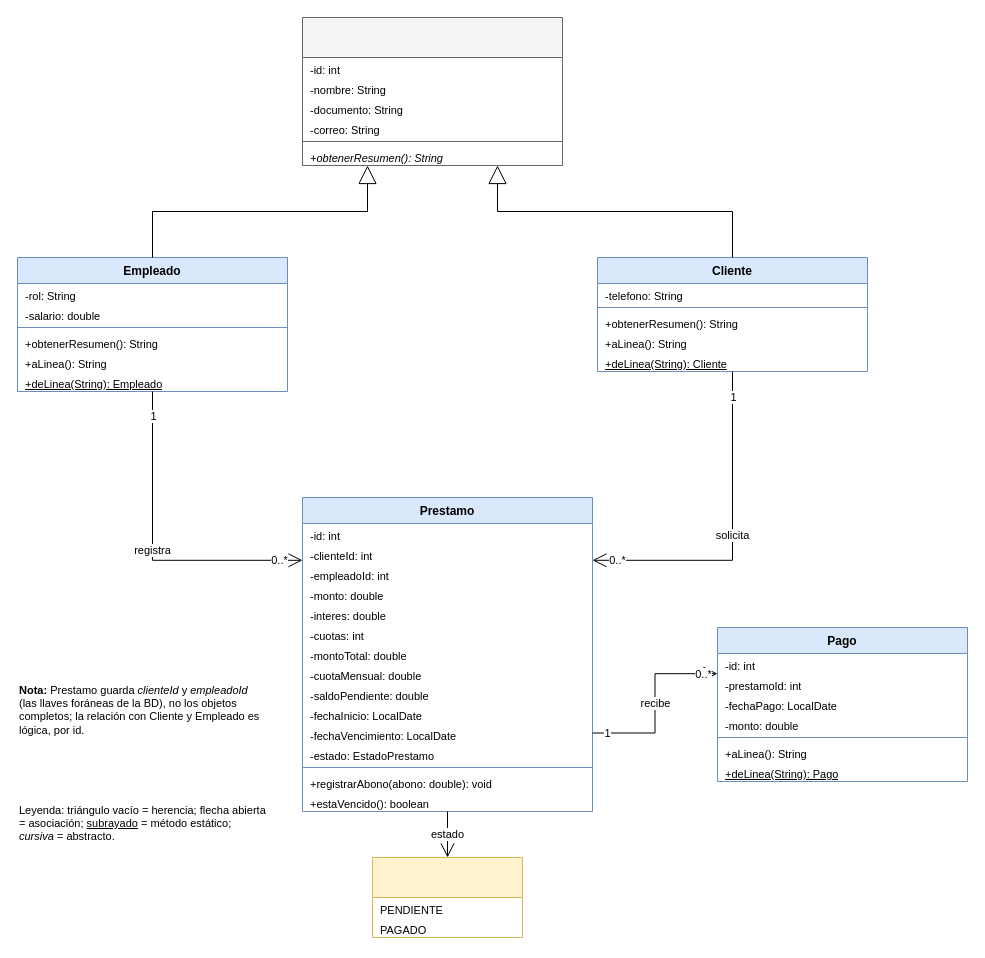
Some shapes in this 985 by 958 pixel diagram are drawn without their labels. Each missing label, with the box of its shape:
«abstract» Persona: (302, 16, 562, 166)
«enumeration» EstadoPrestamo: (372, 856, 522, 938)
